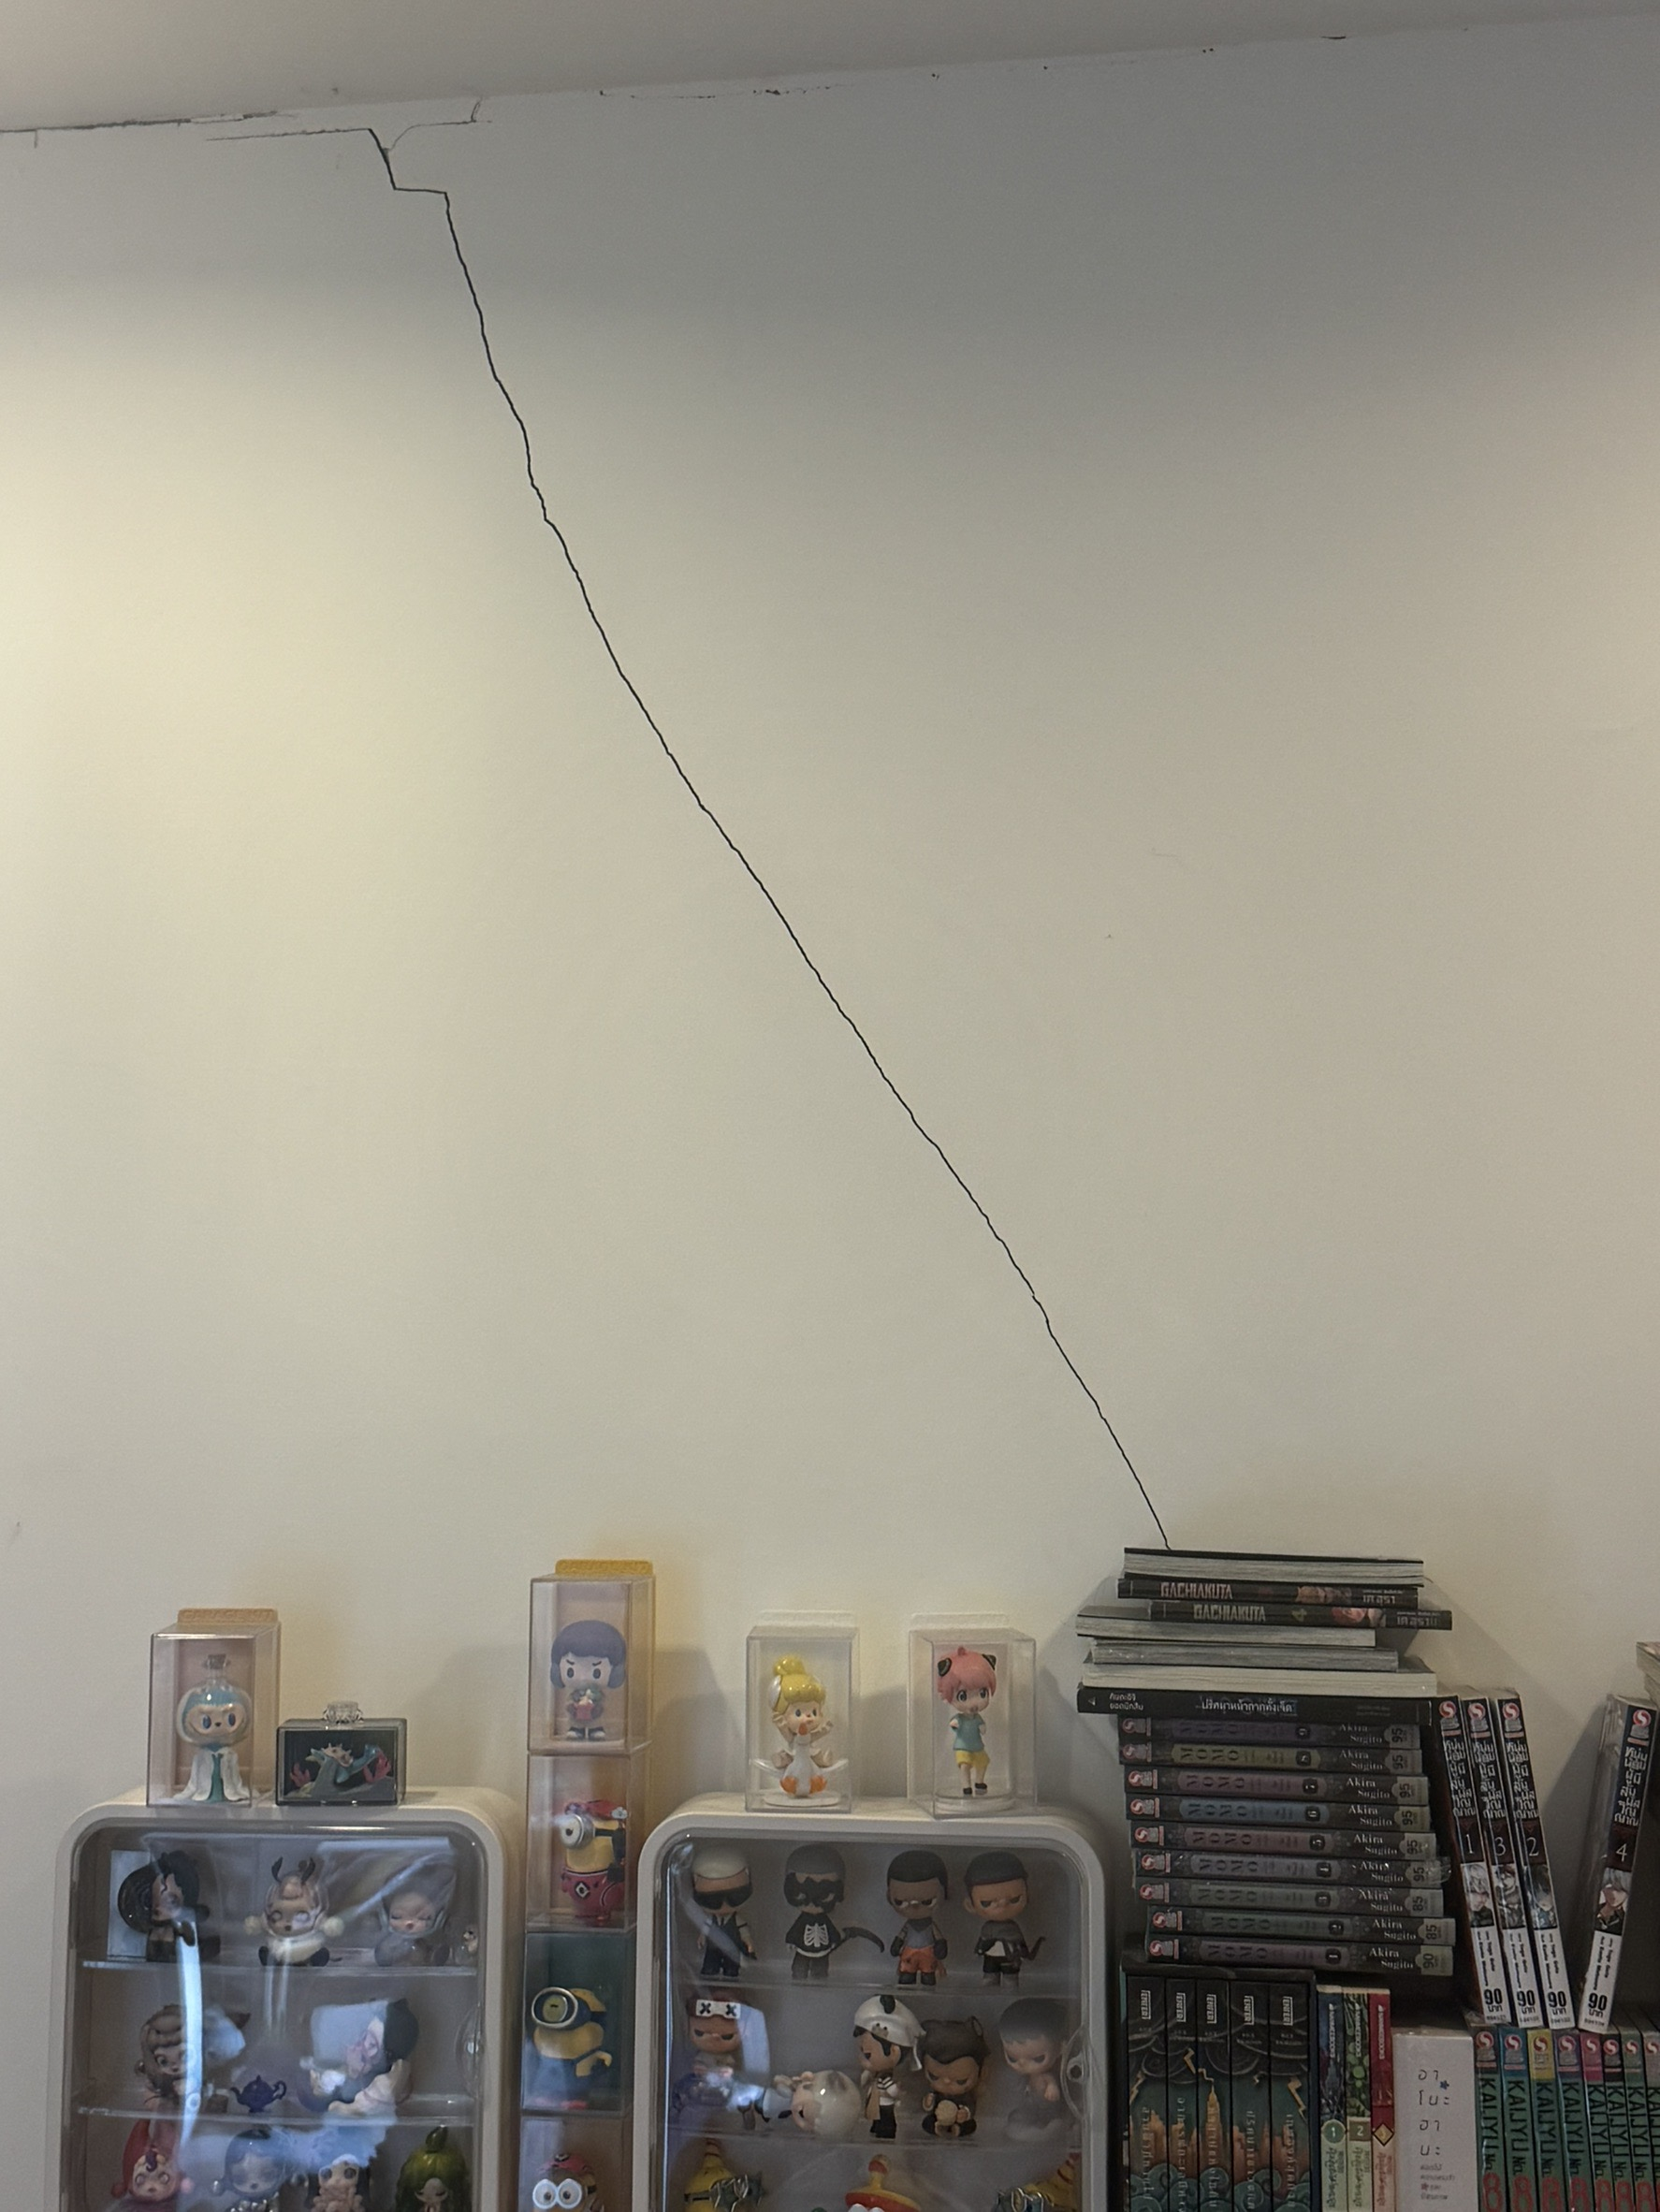Low: (194, 96, 1250, 1553)
